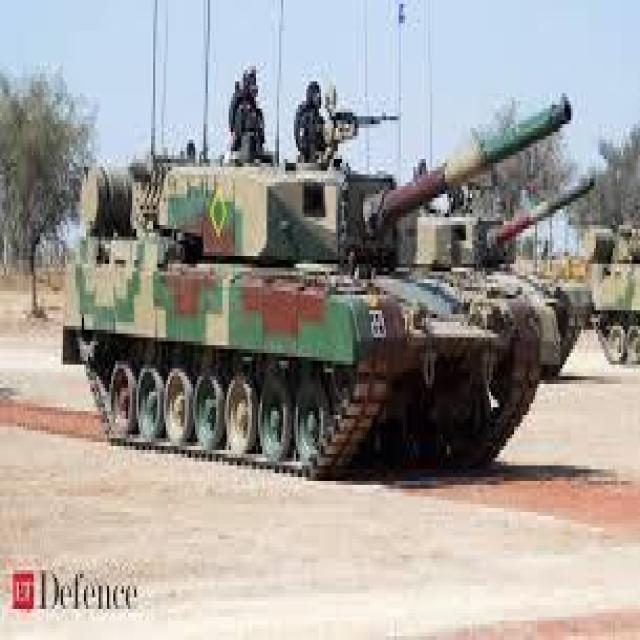Tanks: (59, 146, 548, 498)
